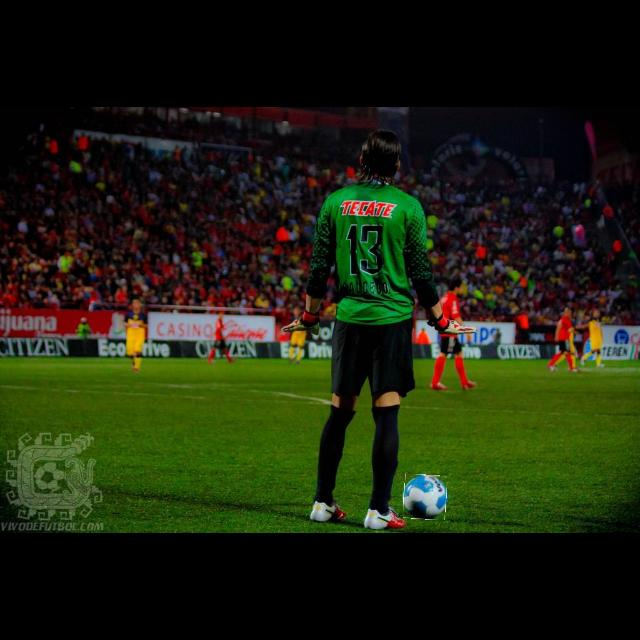Football: (403, 474, 447, 520)
